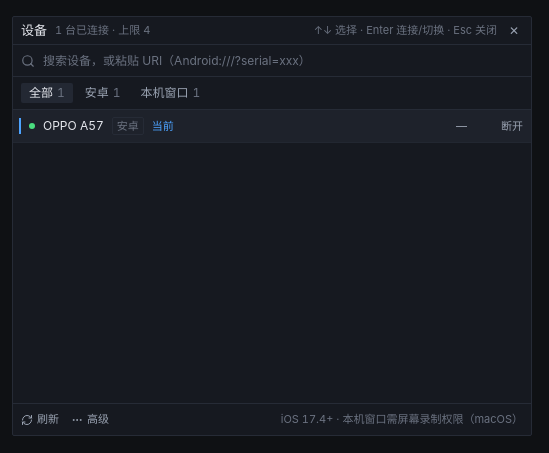
Scenario: 设备弹层 › 本机窗口 Tab 支持搜索（进程 / App / 标题 / 句柄）
Click the button titled "本机窗口（1）" at point(170, 93), box x1=133 y1=83 x2=208 y2=103
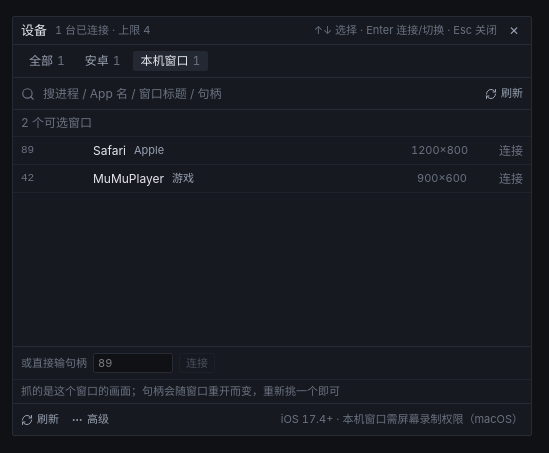
Expected: the text "Safari" is shown, x1=93 y1=142 x2=126 y2=160
Type "89" into the field with placeholder "搜进程 / App 名 / 窗口标题 / 句柄" at point(260, 94), box x1=43 y1=82 x2=477 y2=106
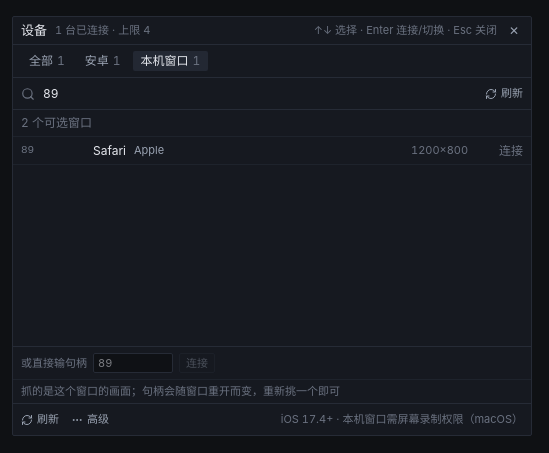
Expected: the text "Safari" is shown, x1=93 y1=142 x2=126 y2=160
Expected: the button "MuMuPlayer" is gone
